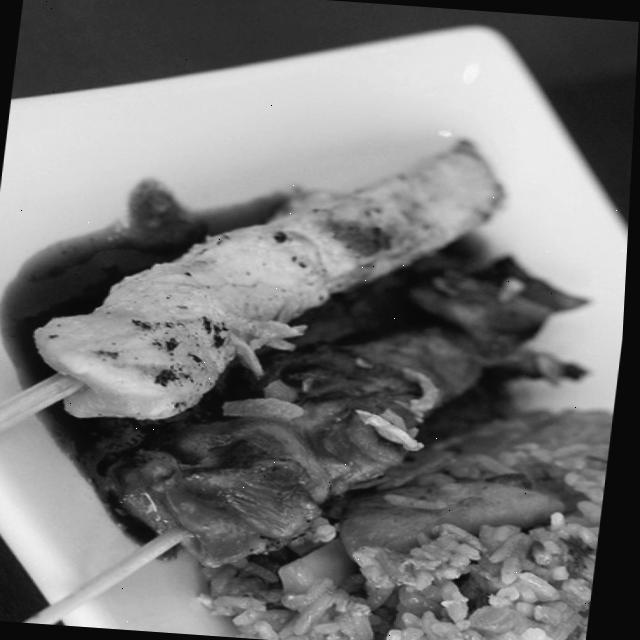牛肉菜式: (0, 63, 637, 640)
